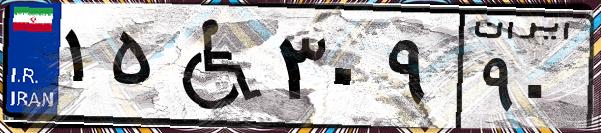0: (330, 28, 385, 110), (525, 38, 570, 115)
1: (57, 26, 110, 100)
3: (270, 28, 330, 110)
5: (110, 28, 158, 98)
9: (385, 28, 445, 110), (475, 38, 525, 113)
ژ (معلولین و جانبازان): (158, 12, 270, 120)
